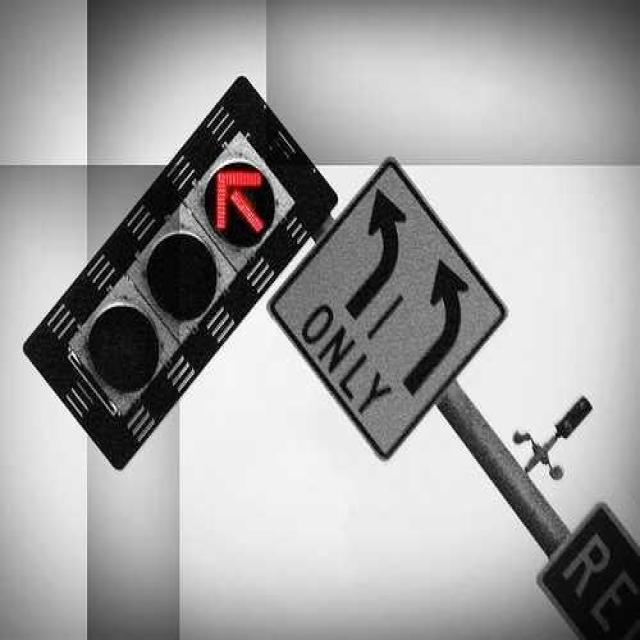Traffic Light -Red-: (59, 121, 296, 404)
